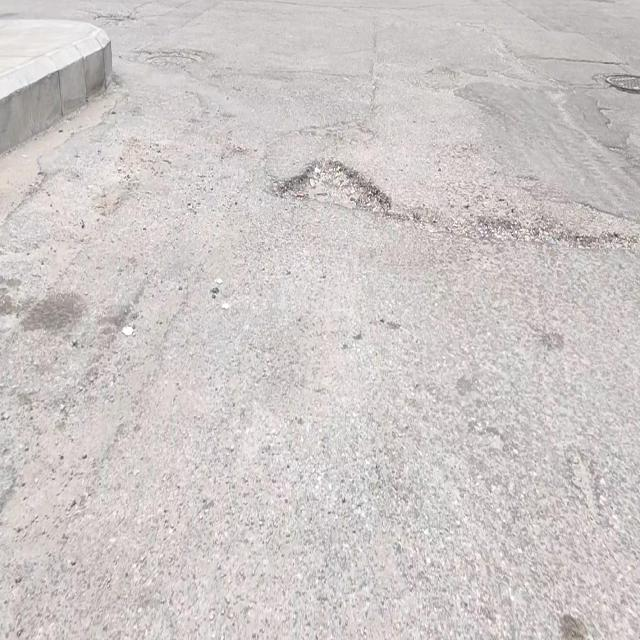Potholes: (280, 155, 394, 219)
